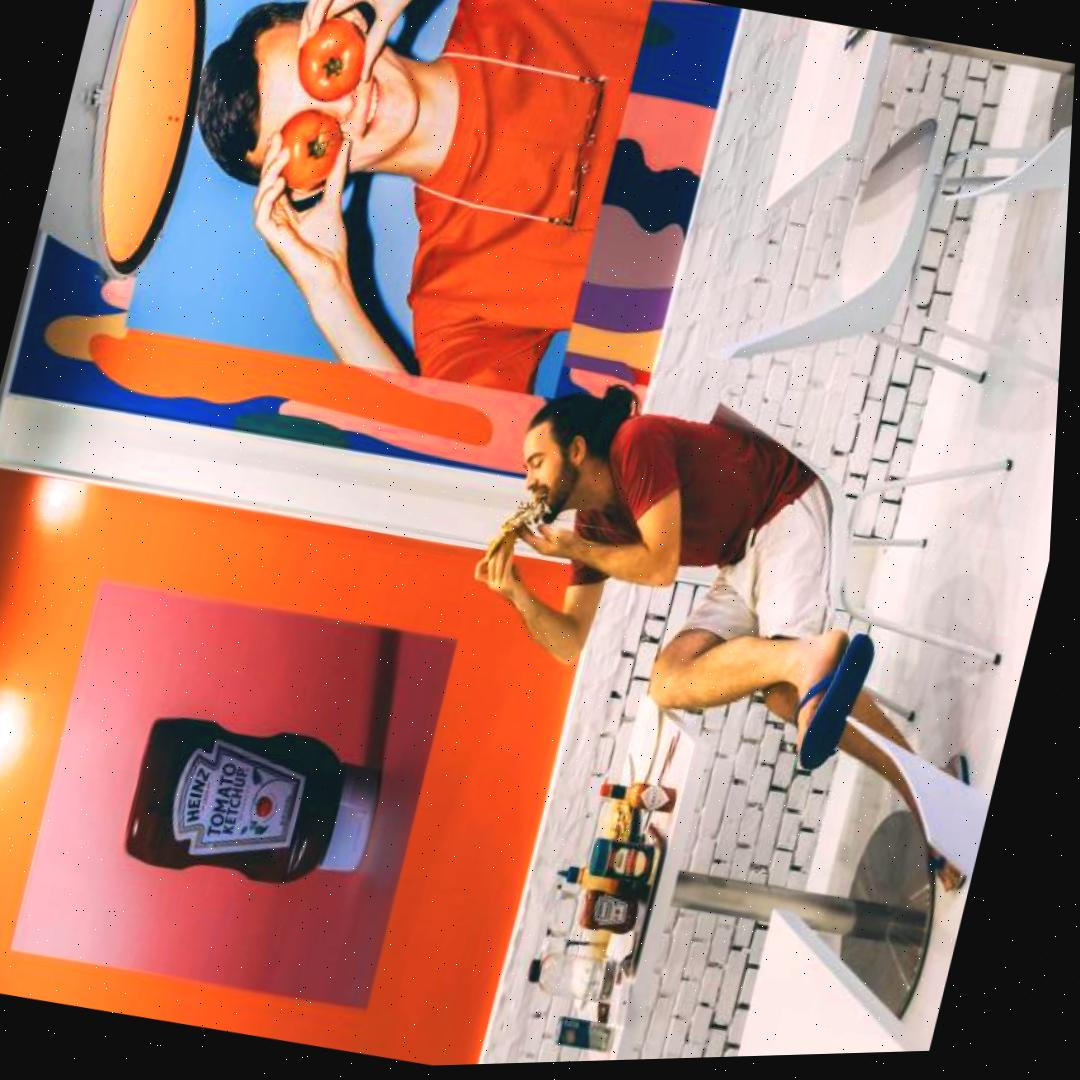matang: (288, 10, 378, 109), (266, 102, 353, 197)
